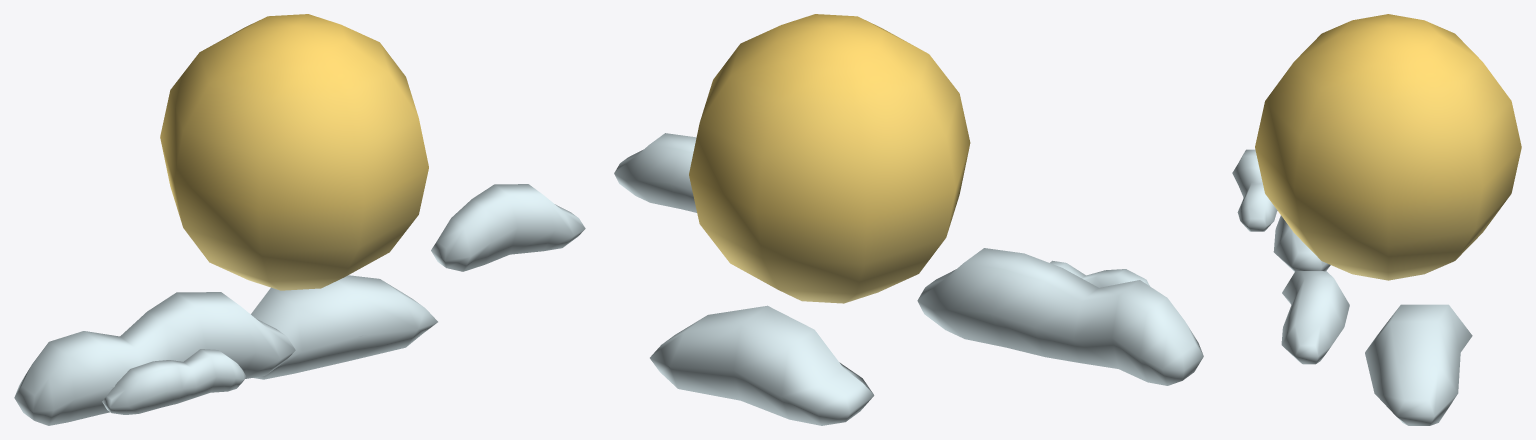
Rendered from SM_TA_SunClouds (1).fbx.
3 views of the same model, side by side, from view 1: azimuth 30°, elevation 25°; view 2: azimuth 150°, elevation 25°; view 3: azimuth 270°, elevation 25° (orthographic). The views are drawn at different scales.
Parts seen in each view (by area): view 1: pSphere1, pCube40, pCube43, pCube42, pCube41; view 2: pSphere1, pCube40, pCube43, pCube42, pCube41; view 3: pSphere1, pCube43, pCube42, pCube41, pCube40.
Part boxes in pixels (x1=…): pSphere1: x1=160, y1=14, x2=428, y2=290; pCube40: x1=14, y1=292, x2=295, y2=425; pCube43: x1=251, y1=275, x2=437, y2=379; pCube42: x1=431, y1=184, x2=585, y2=271; pCube41: x1=102, y1=349, x2=246, y2=414; pSphere1: x1=689, y1=14, x2=970, y2=303; pCube40: x1=917, y1=248, x2=1203, y2=385; pCube43: x1=650, y1=305, x2=874, y2=425; pCube42: x1=614, y1=133, x2=696, y2=212; pCube41: x1=1050, y1=260, x2=1149, y2=287; pSphere1: x1=1255, y1=14, x2=1521, y2=280; pCube43: x1=1365, y1=304, x2=1472, y2=425; pCube42: x1=1281, y1=271, x2=1349, y2=364; pCube41: x1=1232, y1=149, x2=1277, y2=231; pCube40: x1=1273, y1=215, x2=1330, y2=271.
Bounding box in the file's own units: 9.38 × 5.78 × 4.45.
